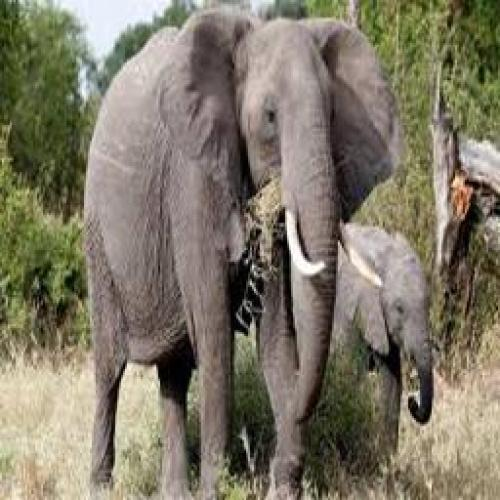african_elephant-endangered: (79, 6, 395, 500), (262, 223, 437, 485)
